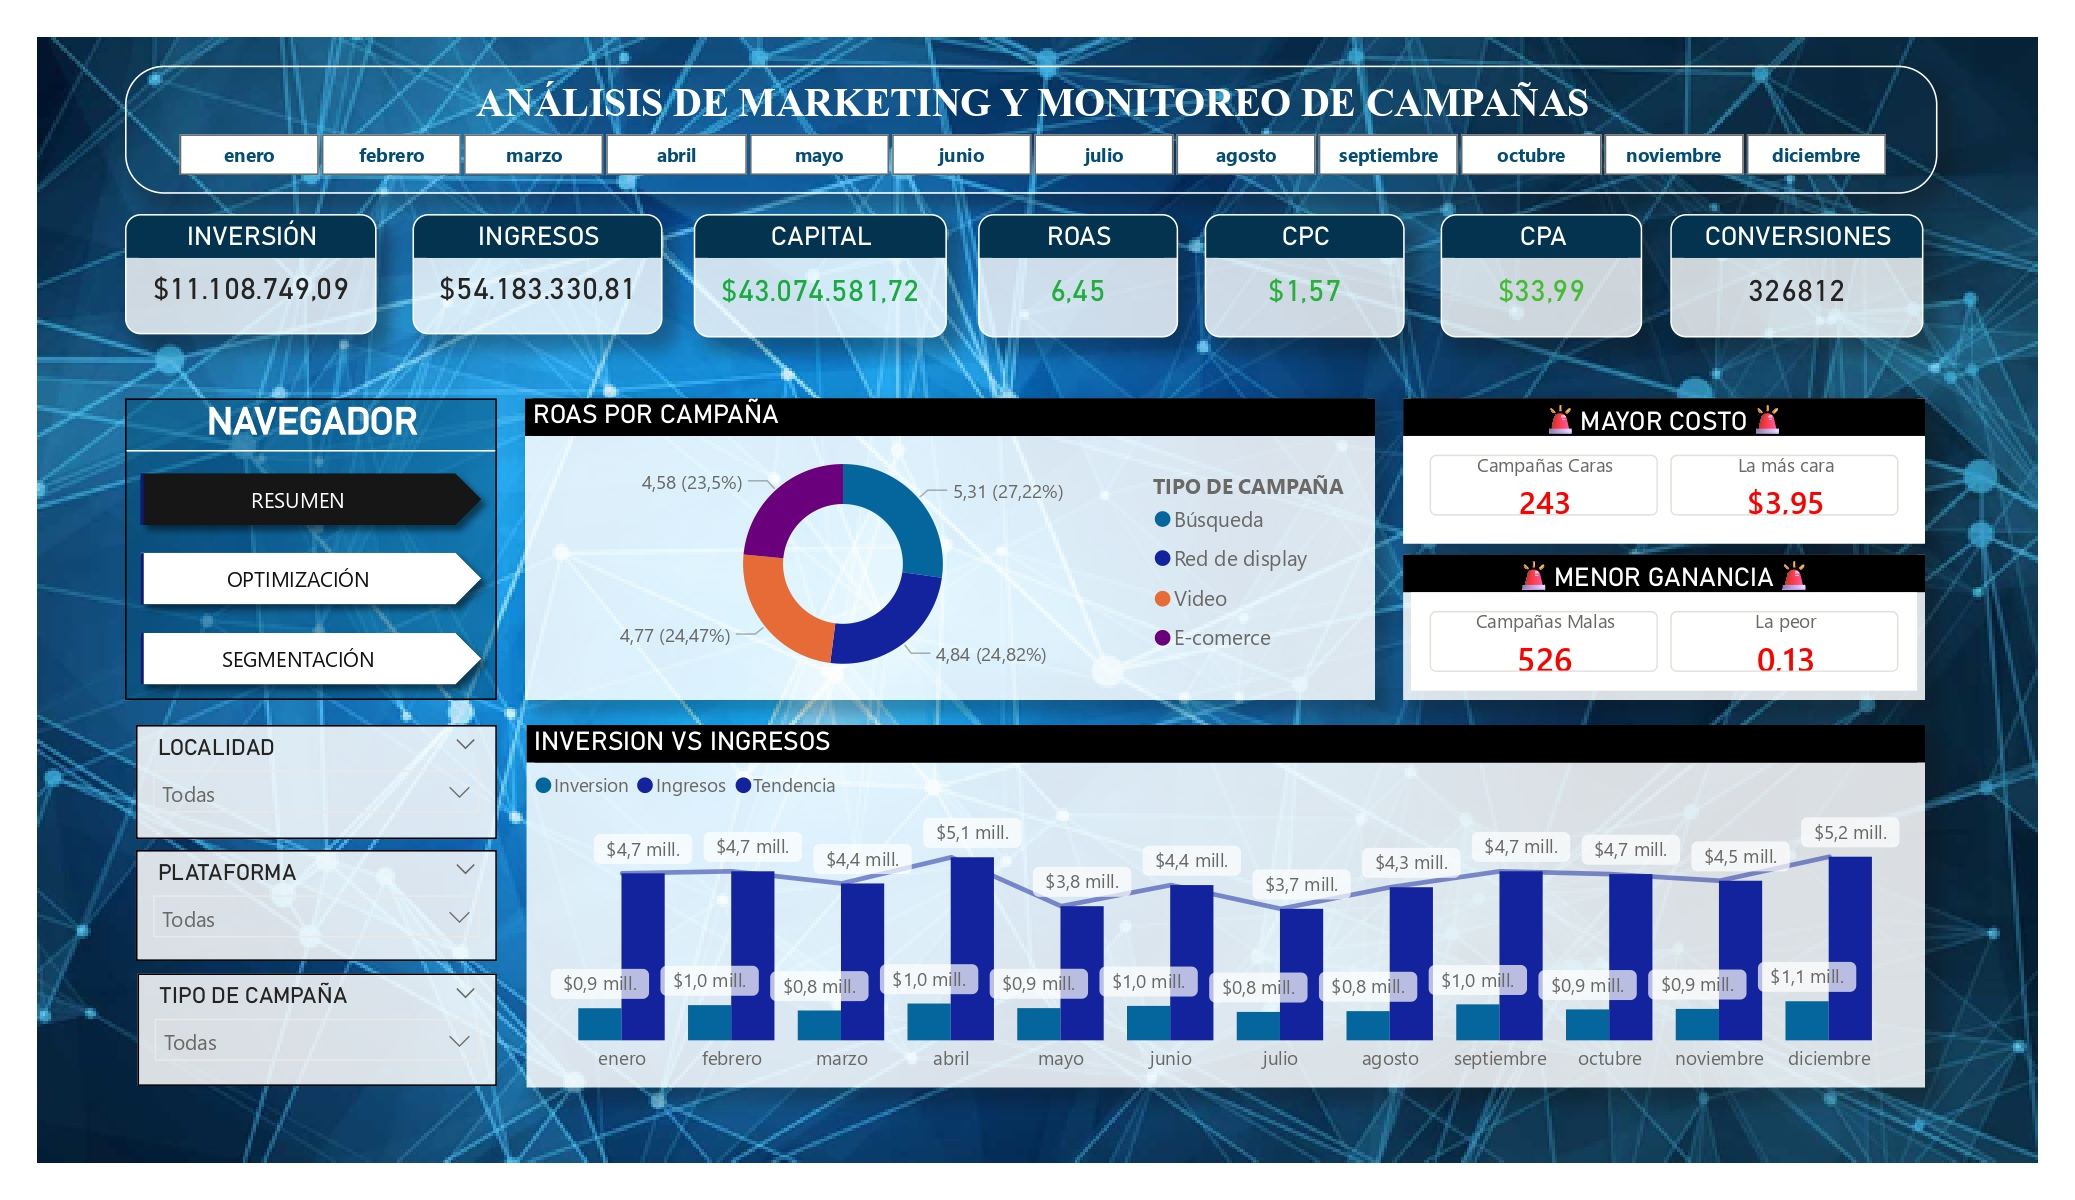

This screenshot's page, from the dashboard's own definition file:
{"tool":"powerbi","page":{"name":"RESUMEN","canvas":[1280,720],"ordinal":0},"visuals":[{"type":"lineClusteredColumnComboChart","title":"INVERSION VS INGRESOS","fields":{"Category":["dim_fecha.Date.Variación.Jerarquía de fechas.Mes","dim_fecha.Date.Variación.Jerarquía de fechas.Día"],"Y":["Medidas.sumInversion","Sum(Marketing.INGRESOS)"],"Y2":["Medidas.sumIngresos"]},"box":[313,439.7,894.6,232.3],"z":1000},{"type":"slicer","title":"ANÁLISIS DE MARKETING Y MONITOREO DE CAMPAÑAS","fields":{"Values":["dim_fecha.Date.Variación.Jerarquía de fechas.Mes"]},"box":[55.7,18.1,1160.3,82.1],"z":2000},{"type":"slicer","fields":{"Values":["dim_plataforma.PLATAFORMA"]},"box":[62.9,520,231.4,71.4],"z":3000},{"type":"slicer","fields":{"Values":["dim_localidad.LOCALIDAD"]},"box":[62.9,440,231.4,72.9],"z":4000},{"type":"slicer","fields":{"Values":["dim_campaña.T_CAMPAÑA"]},"box":[63.8,598.8,230,72.5],"z":5000},{"type":"pageNavigator","title":"NAVEGADOR","box":[55.6,231.1,238.9,193.3],"z":6000},{"type":"donutChart","title":"ROAS POR CAMPAÑA","fields":{"Category":["dim_campaña.T_CAMPAÑA"],"Y":["Medidas.KPI_ROAS"]},"box":[311.8,231.2,530,189.4],"z":7000},{"type":"cardVisual","title":"🚨MAYOR COSTO🚨","fields":{"Data":["Sum(Marketing.Flag_Cara)","Max(Marketing.CPC_Registro)"]},"box":[860.6,231.2,347.1,96.5],"z":8000},{"type":"cardVisual","title":"🚨MENOR GANANCIA🚨","fields":{"Data":["Sum(Marketing.Flag_Mala)","Min(Marketing.ROAS_Registro)"]},"box":[860.6,331.2,347.1,93.5],"z":9000},{"type":"card","title":"INVERSIÓN","fields":{"Values":["Sum(Marketing.INVERSION)"]},"box":[56,113,161,77],"z":10000},{"type":"card","title":"INGRESOS","fields":{"Values":["Medidas.Ingresos"]},"box":[240,113.3,160,76.7],"z":11000},{"type":"card","title":"CONVERSIONES","fields":{"Values":["Sum(Marketing.CONVERSIONES)"]},"box":[1045,113.3,161.7,78.3],"z":12000},{"type":"card","title":"ROAS","fields":{"Values":["Avg(Marketing.ROAS_Registro)"]},"box":[601.7,113.3,128.3,78.3],"z":13000},{"type":"card","title":"CPA","fields":{"Values":["Medidas.KPI_CPA"]},"box":[898.3,113.3,128.3,78.3],"z":14000},{"type":"card","title":"PROFIT","fields":{"Values":["Medidas.Profit"]},"box":[420,113.3,161.7,78.3],"z":15000},{"type":"card","title":"CPC","fields":{"Values":["Avg(Marketing.CPC_Registro)"]},"box":[746.7,113.3,128.3,78.3],"z":16000}]}

Visuals, with their boxes on the page's 1280x720 design canvas (x1, y1, x2, y2). These are canvas units, not pixel positions in the 2075x1200 screenshot, which may show the page scaled, cropped or inside an application window:
"INVERSION VS INGRESOS" lineClusteredColumnComboChart: [313,440,1208,672]
"ANÁLISIS DE MARKETING Y MONITOREO DE CAMPAÑAS" slicer: [56,18,1216,100]
slicer - dim_plataforma.PLATAFORMA: [63,520,294,591]
slicer - dim_localidad.LOCALIDAD: [63,440,294,513]
slicer - dim_campaña.T_CAMPAÑA: [64,599,294,671]
"NAVEGADOR" pageNavigator: [56,231,294,424]
"ROAS POR CAMPAÑA" donutChart: [312,231,842,421]
"🚨MAYOR COSTO🚨" cardVisual: [861,231,1208,328]
"🚨MENOR GANANCIA🚨" cardVisual: [861,331,1208,425]
"INVERSIÓN" card: [56,113,217,190]
"INGRESOS" card: [240,113,400,190]
"CONVERSIONES" card: [1045,113,1207,192]
"ROAS" card: [602,113,730,192]
"CPA" card: [898,113,1027,192]
"PROFIT" card: [420,113,582,192]
"CPC" card: [747,113,875,192]
